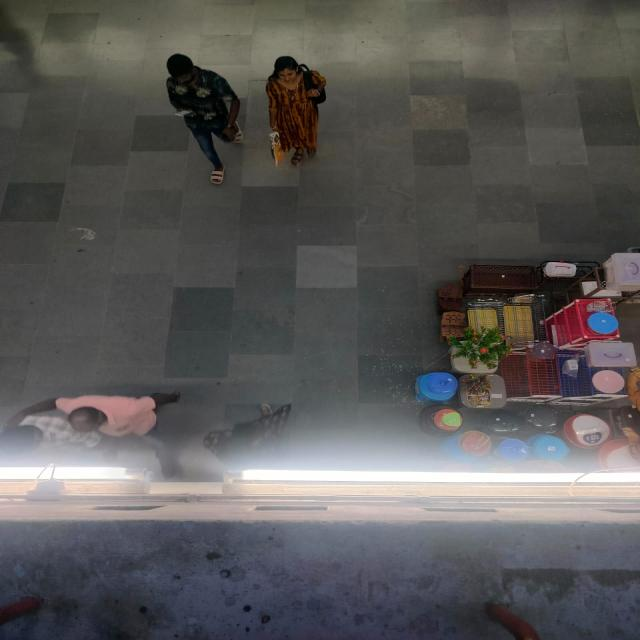humans: (163, 50, 246, 192), (260, 52, 332, 176), (53, 386, 184, 441), (0, 407, 69, 465)
